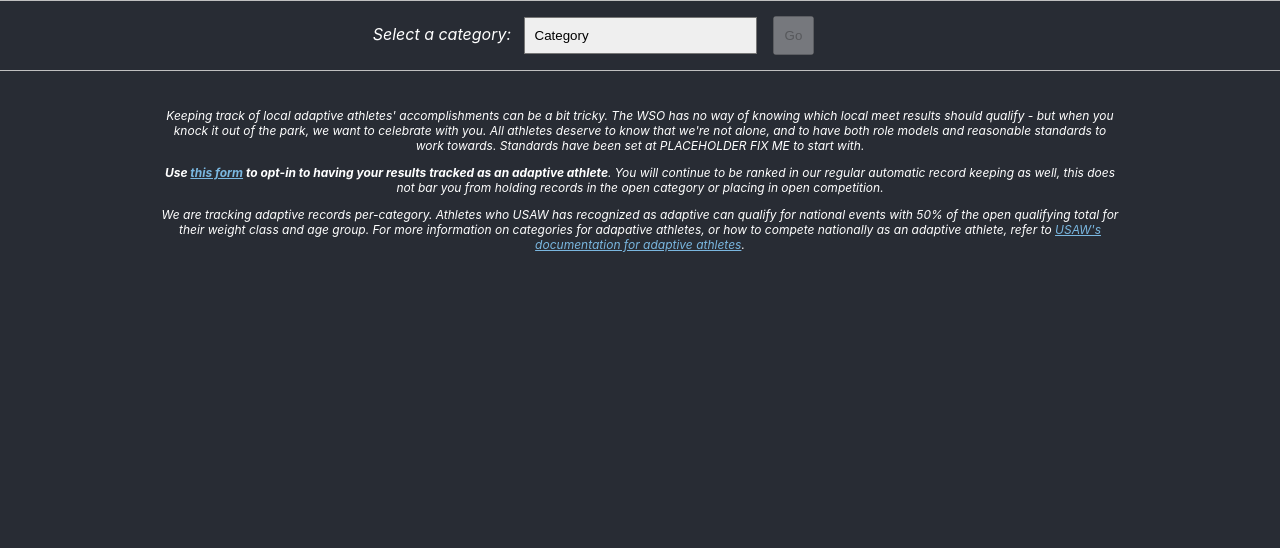
AdaptiveRecords (user-based) › the Reset button appears only once a category is chosen, and returns to the preamble
Check: the button "Reset" is not shown
Select "Physical Disability" in the dropdown named "Category" at (640, 36), box left=524, top=17, right=756, bottom=54
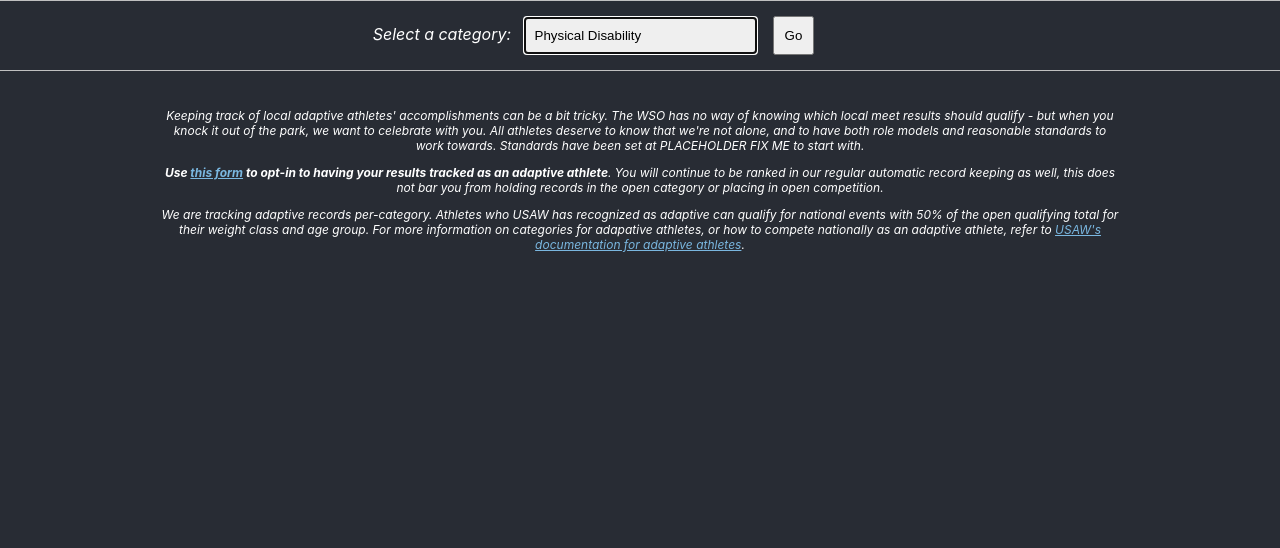
Click the button "Go" at (793, 36), box left=772, top=16, right=814, bottom=55
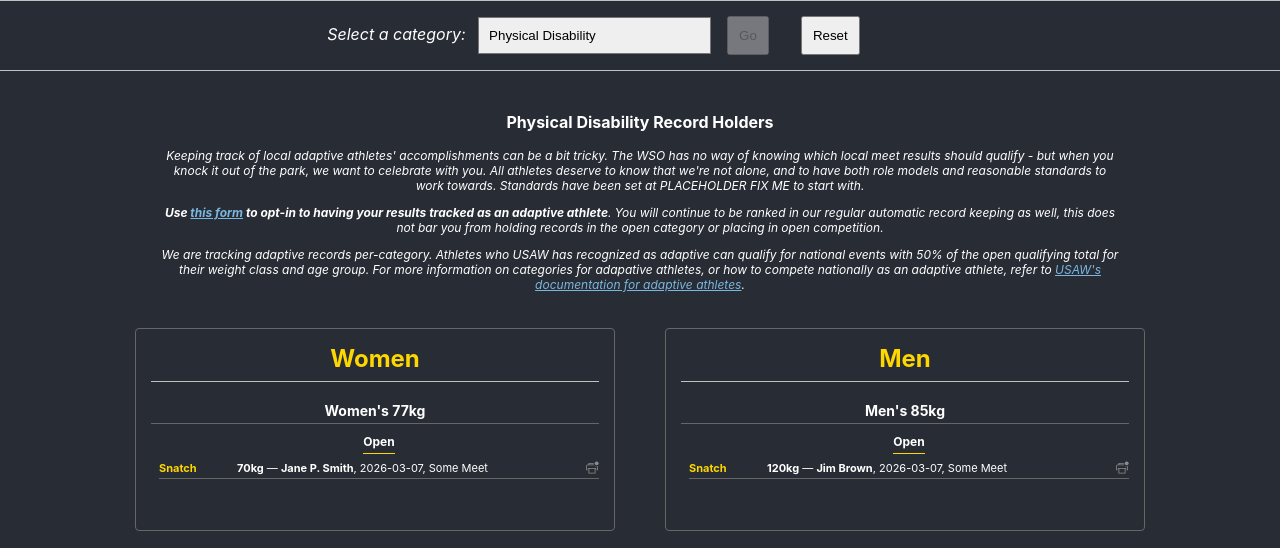
Check: the text "Jane P. Smith" is shown, box left=281, top=461, right=354, bottom=475
Click the button "Reset" at (830, 36), box left=801, top=16, right=860, bottom=55
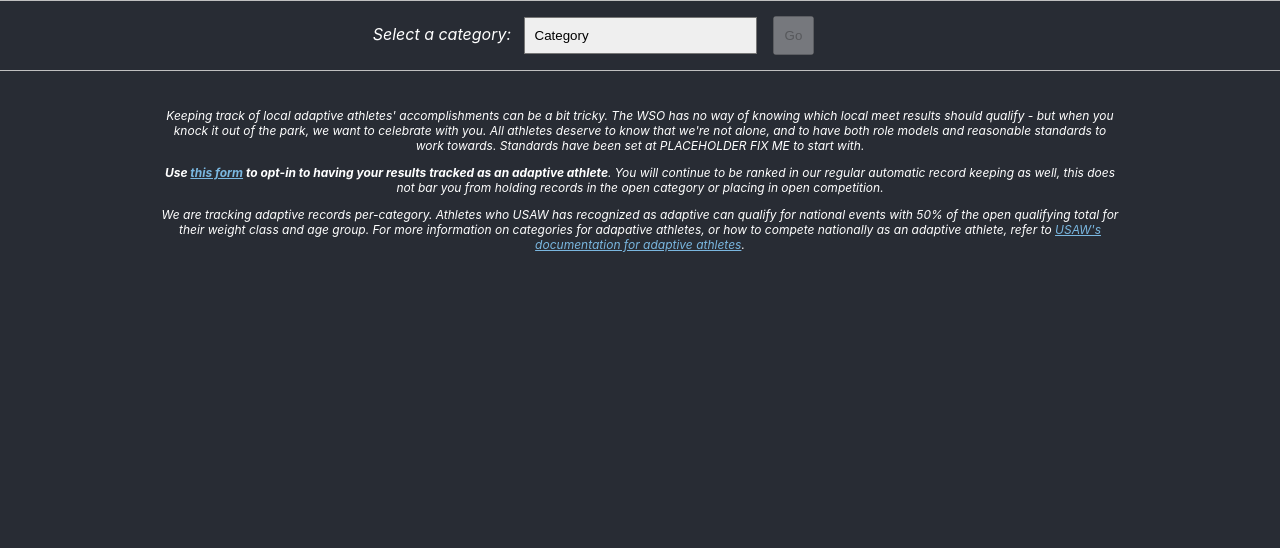
Check: the text "Keeping track of local adaptive athletes" is shown, box left=166, top=108, right=1114, bottom=153
Check: the text "Jane P. Smith" is gone
Check: the button "Reset" is gone
